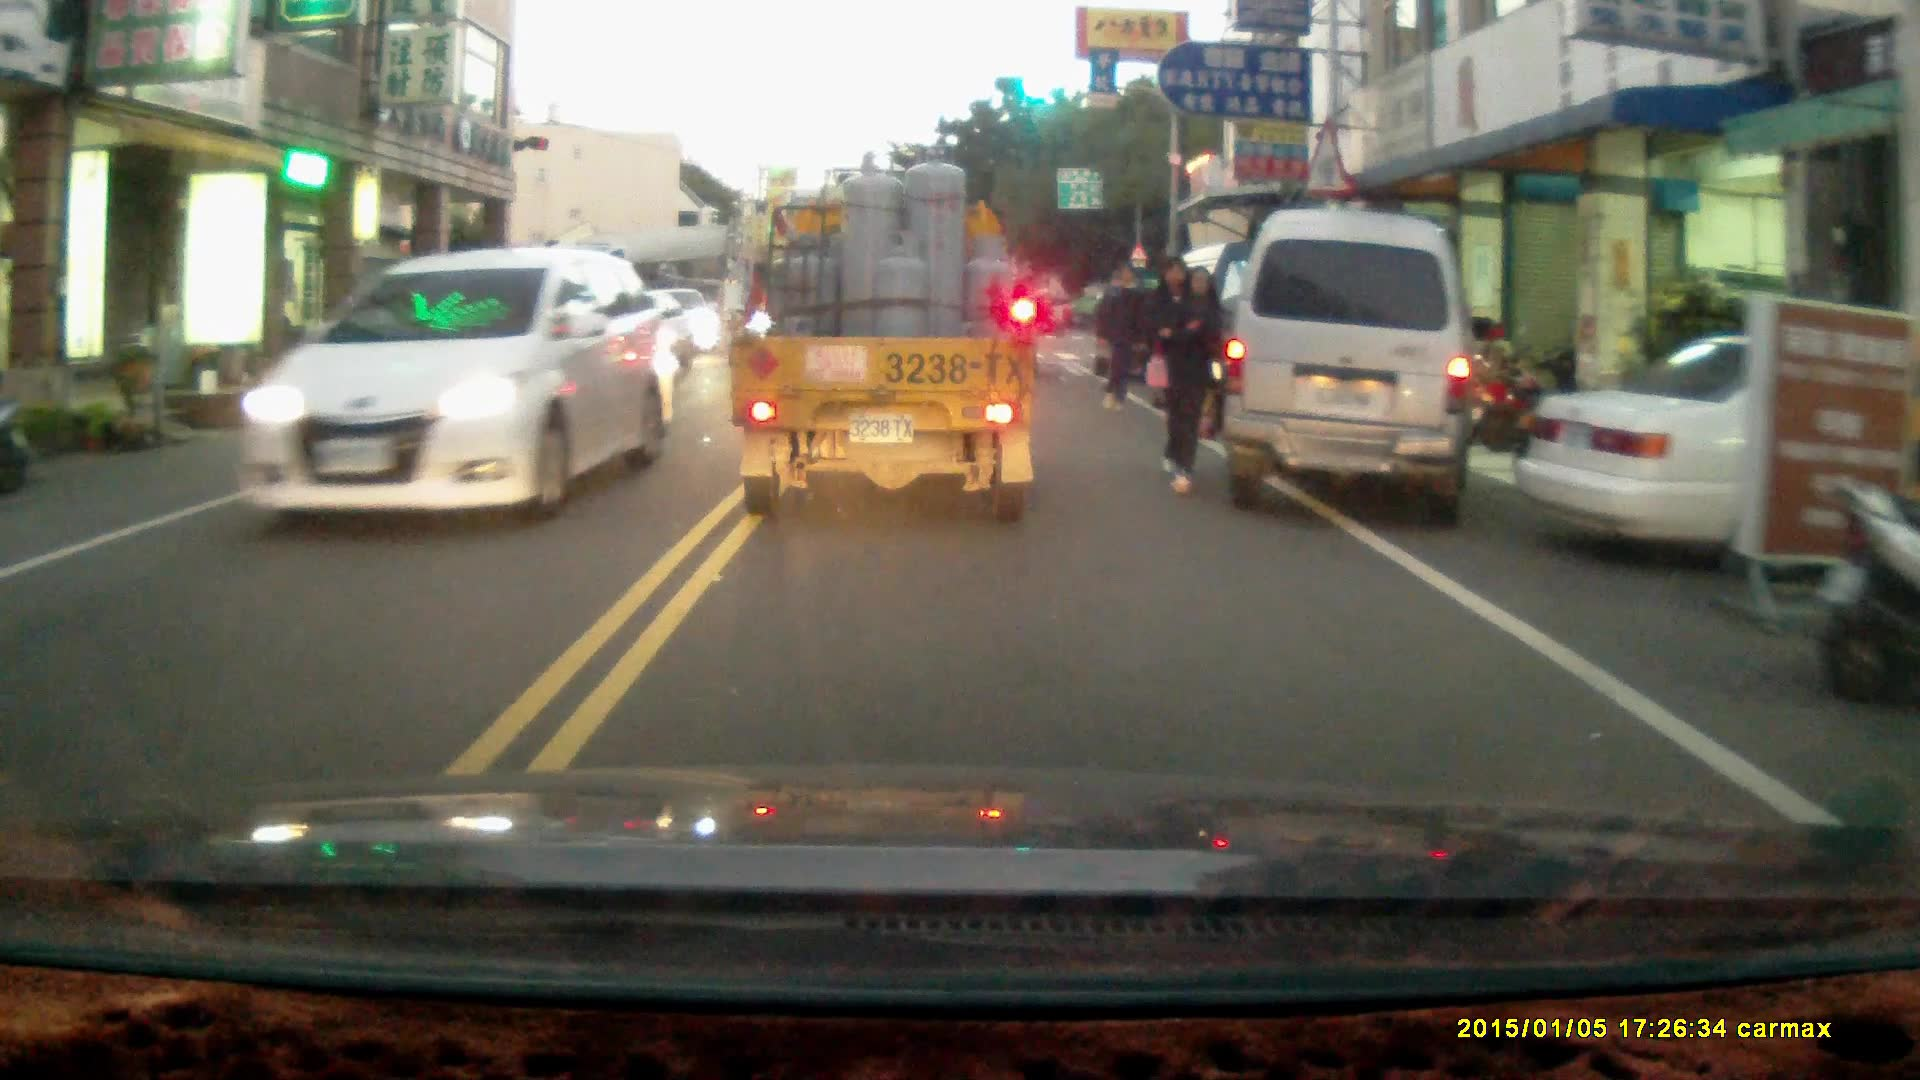pedestrian: (1141, 252, 1212, 497), (1096, 261, 1147, 413)
rider: (1029, 286, 1062, 337)
vehicle: (232, 246, 673, 524), (723, 141, 1041, 524), (1510, 328, 1920, 592), (1216, 207, 1485, 520)
